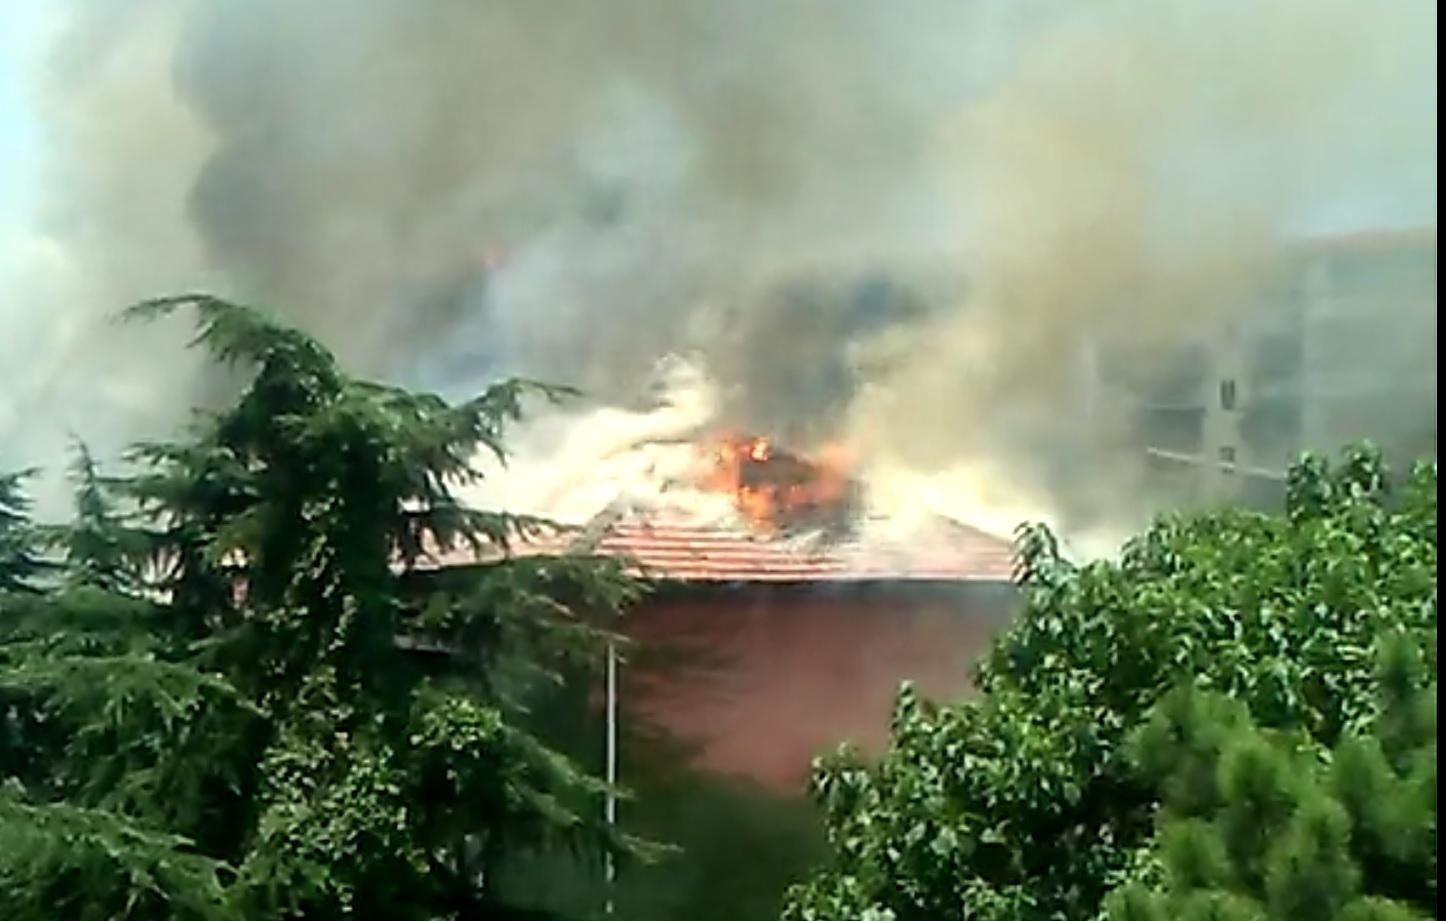fire: (541, 418, 788, 537)
